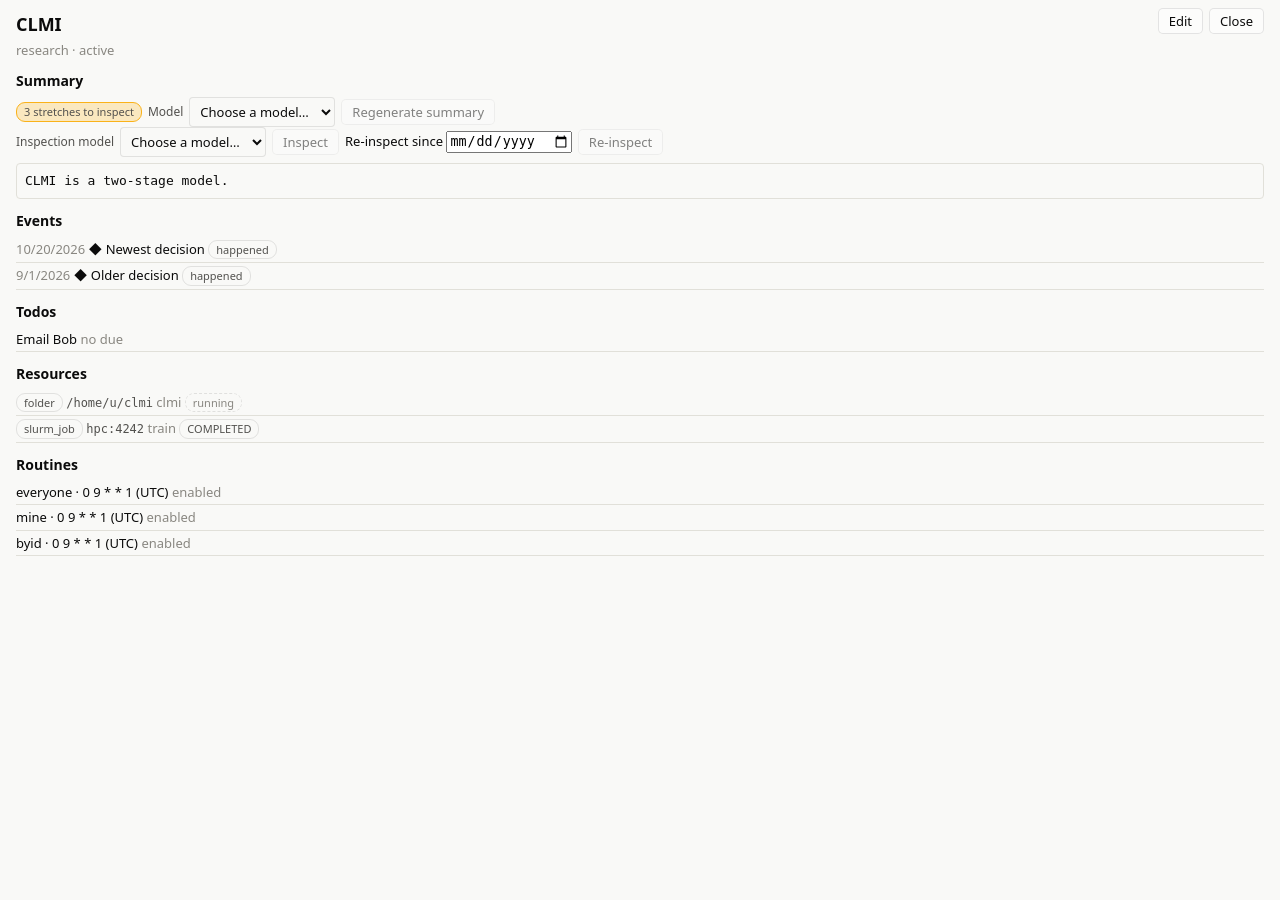
Scenario: ProjectView › edits the kind and status, sending only what changed; Cancel discards
Click the button "Edit". click: (1180, 21)
box: [1158, 8, 1203, 34]
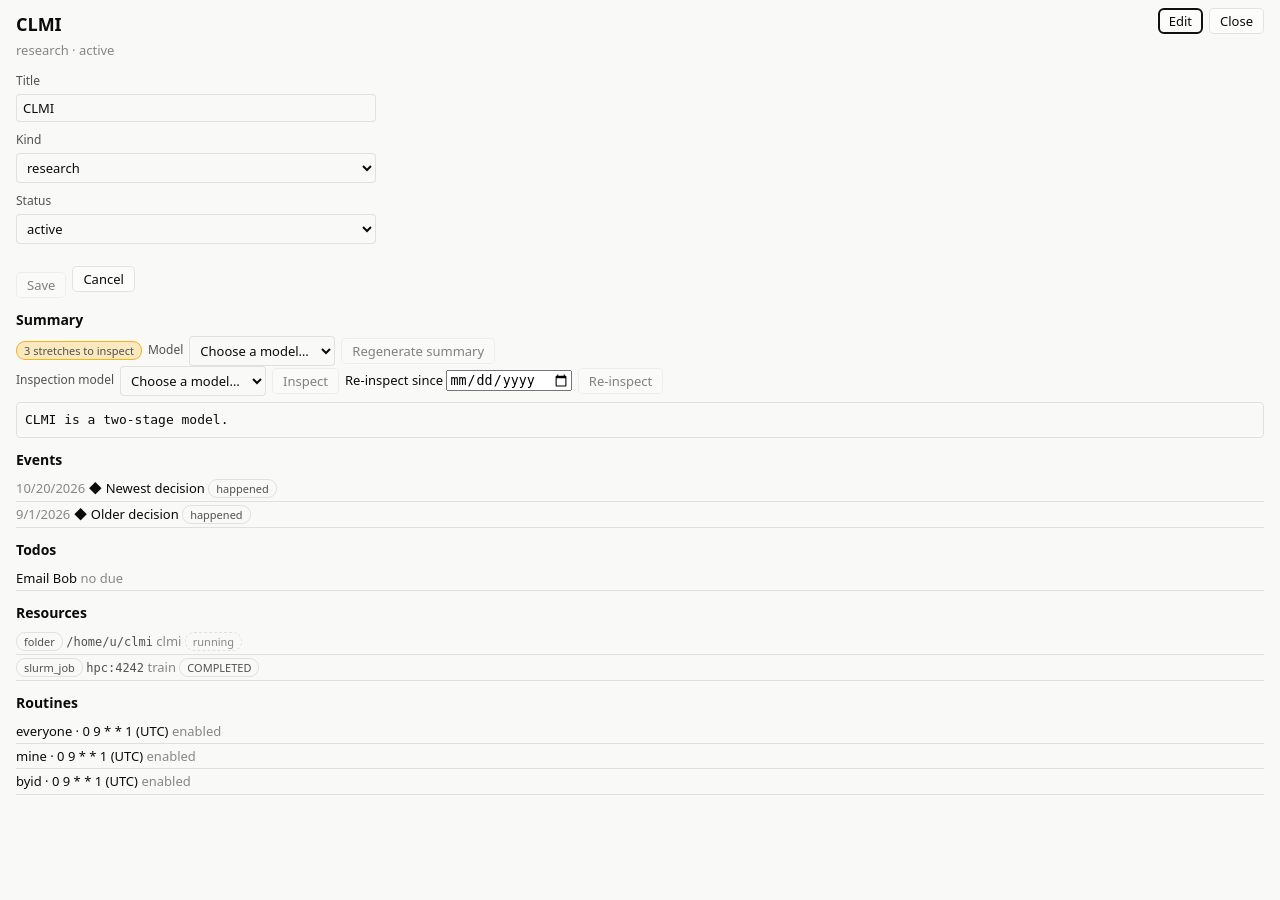
Result: the button "Save" is disabled at [16, 272, 66, 298]
Select "tooling" in the dropdown labelled "Kind". click: (196, 168)
box: [16, 153, 376, 183]
Click the button "Cancel". click: (104, 279)
box: [72, 266, 135, 292]
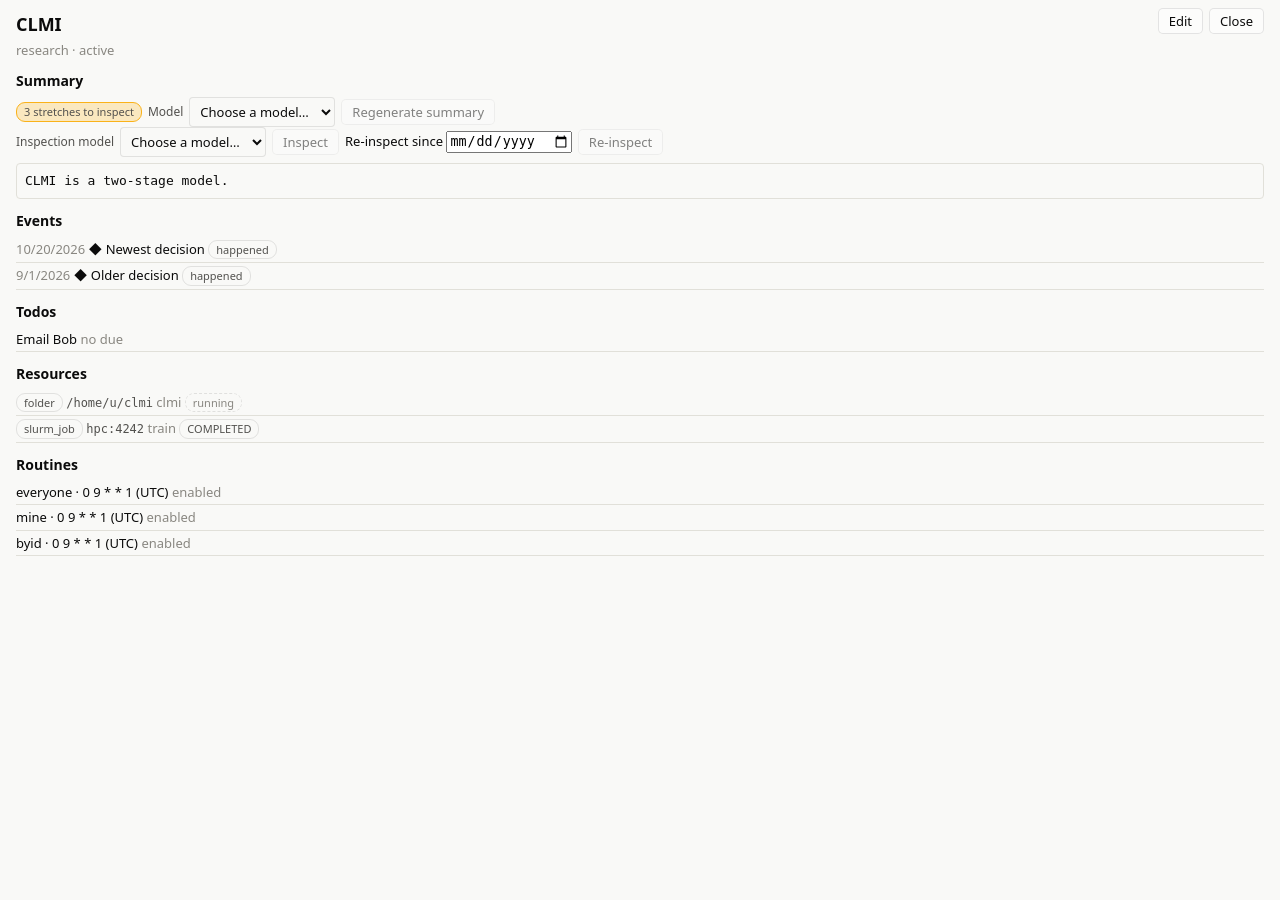
Result: the label labelled "Kind" is gone
Click the button "Edit". click: (1180, 21)
box: [1158, 8, 1203, 34]
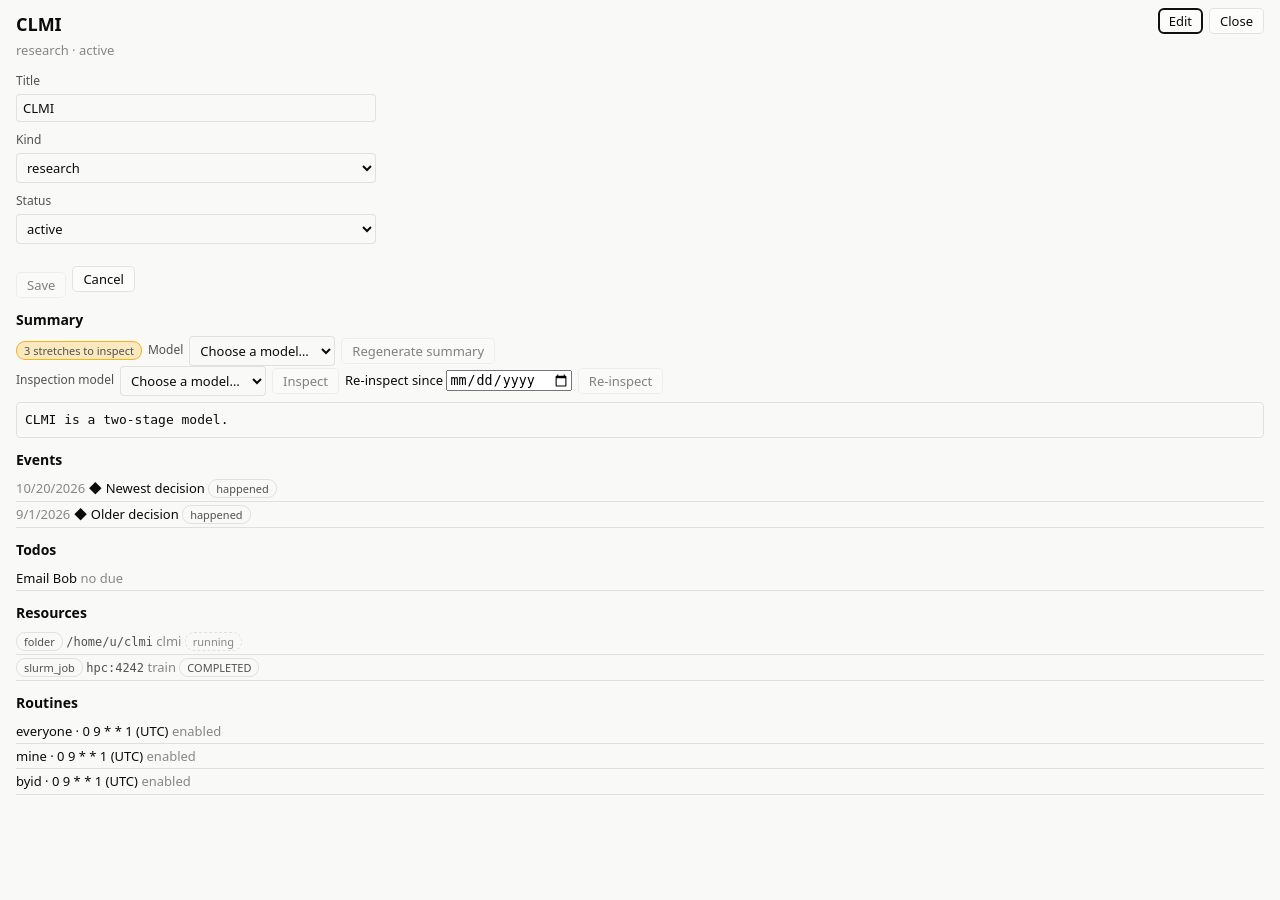
Result: the dropdown labelled "Kind" shows "research"
Select "tooling" in the dropdown labelled "Kind". click: (196, 168)
box: [16, 153, 376, 183]
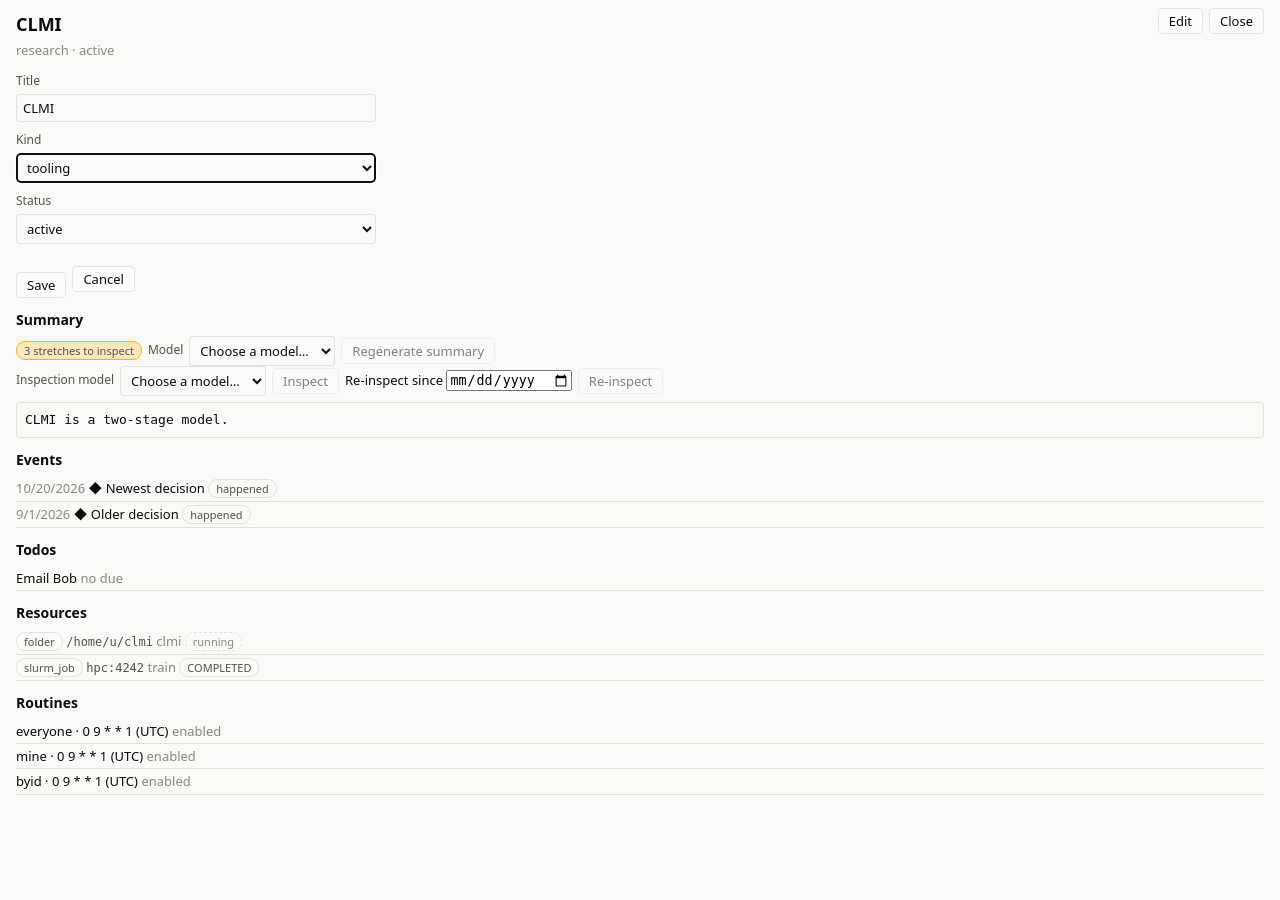
Select "paused" in the dropdown labelled "Status". click: (196, 229)
box: [16, 214, 376, 244]
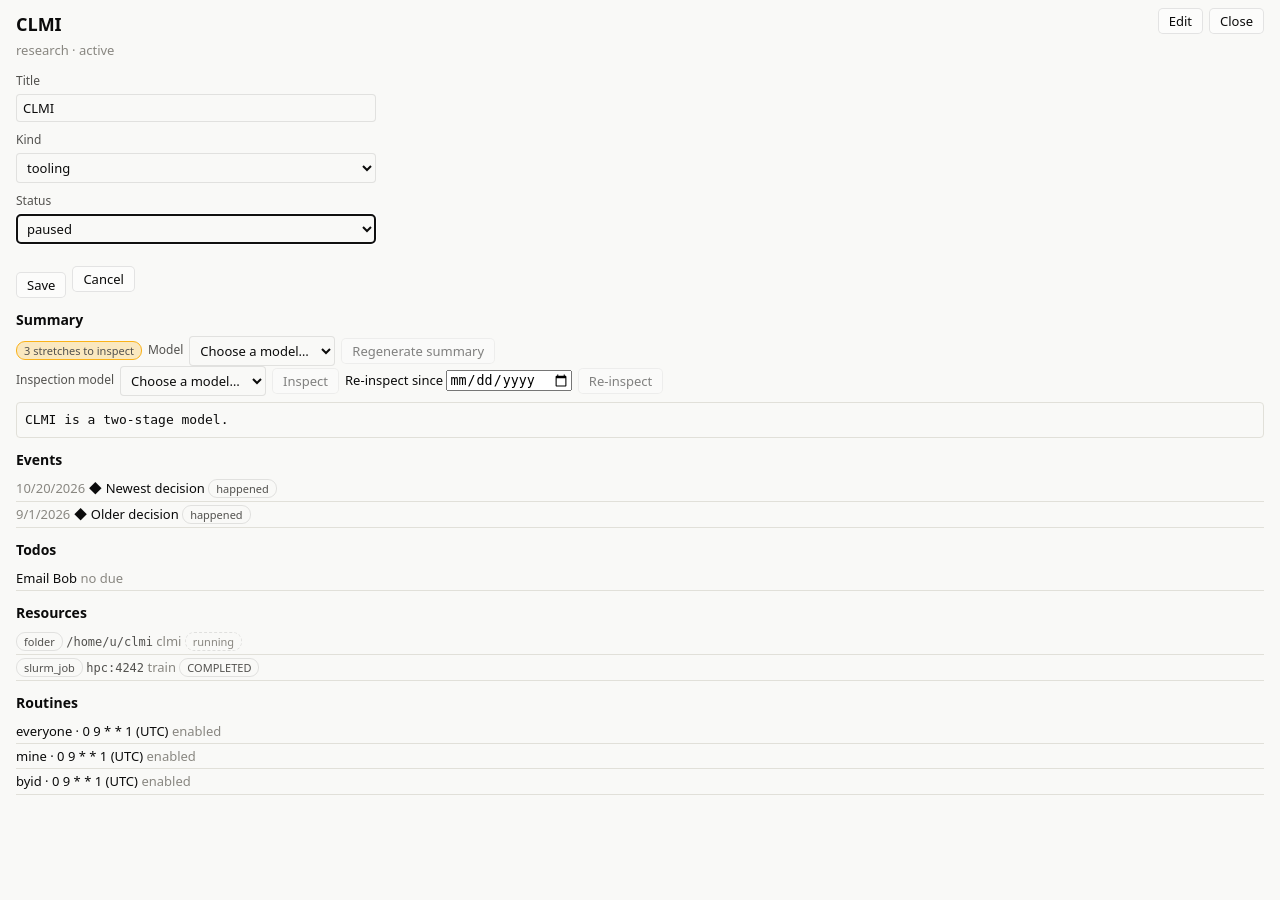
Click the button "Save". click: (41, 285)
box: [16, 272, 66, 298]
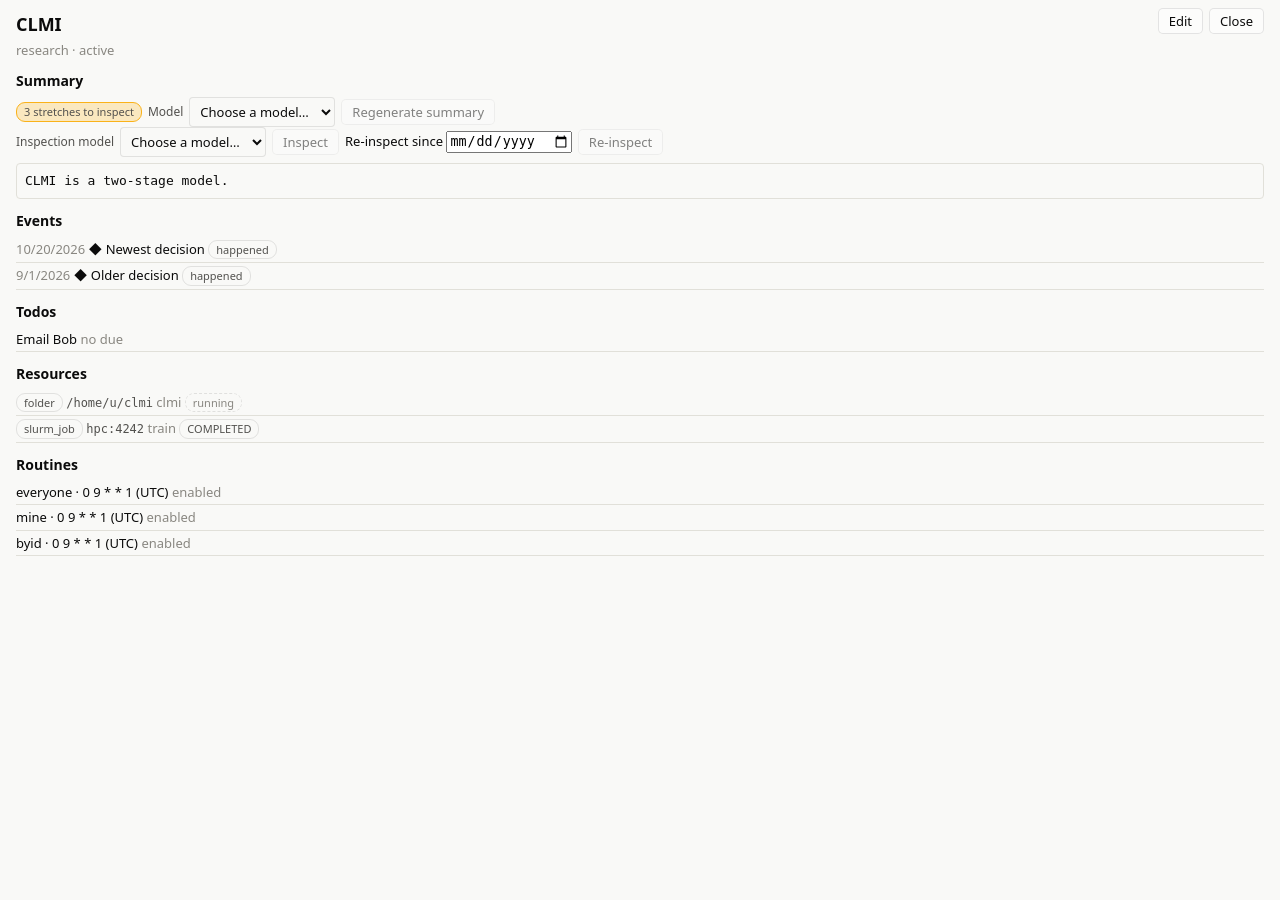
Result: the label labelled "Kind" is gone
